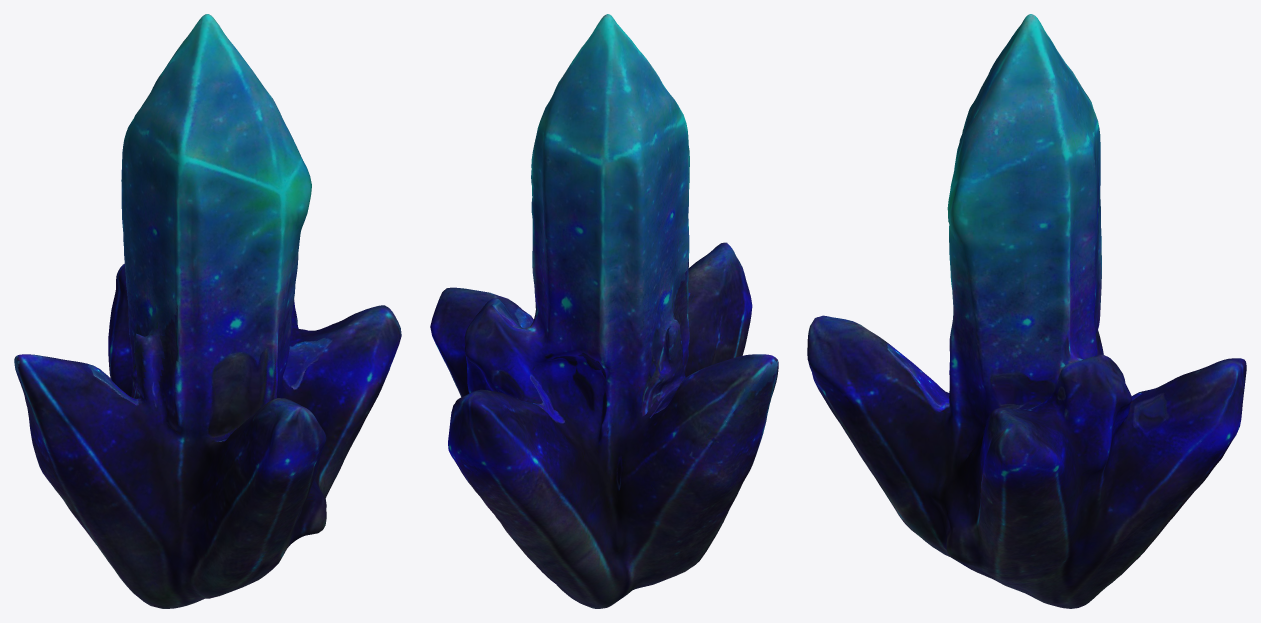
Rendered from 632047559347_a_blue_glowing_gala.fbx.
3 renders of one model, left to right at view 1: azimuth 30°, elevation 25°; view 2: azimuth 150°, elevation 25°; view 3: azimuth 270°, elevation 25°, orthographic. The views are drawn at different scales.
Parts seen in each view (by area): view 1: mesh; view 2: mesh; view 3: mesh.
Boxes of the visible parts, x1=… form: mesh: x1=14, y1=14, x2=401, y2=608; mesh: x1=430, y1=14, x2=778, y2=608; mesh: x1=807, y1=14, x2=1246, y2=608.
Bounding box in the file's own units: 63.72 × 99.56 × 66.52.
